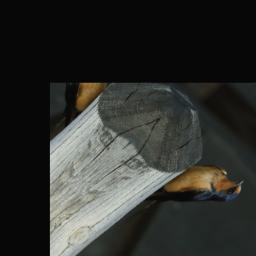Swallow: (120, 147, 250, 256)
